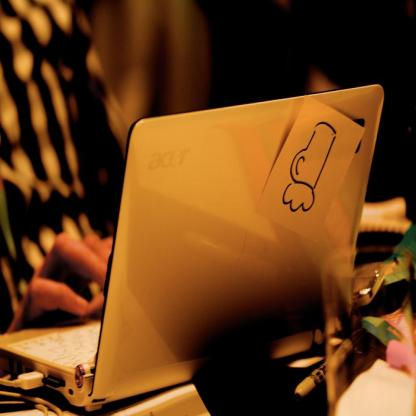board: (33, 105, 409, 416)
